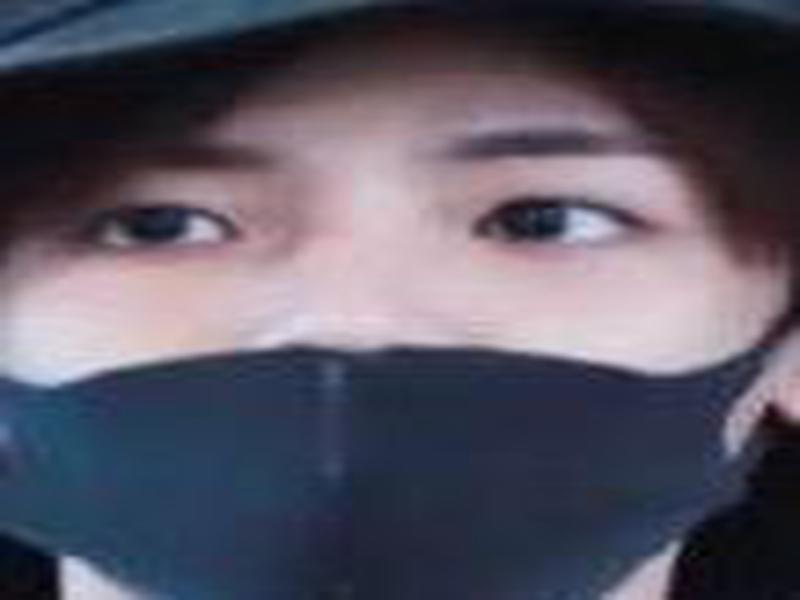with_mask: (1, 18, 797, 600)
